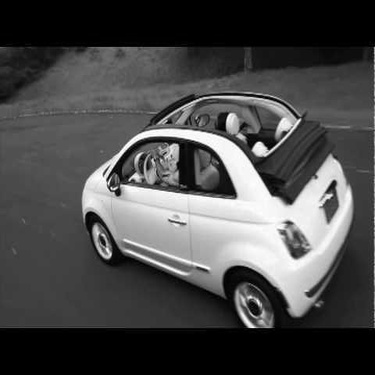car: (78, 82, 354, 332)
